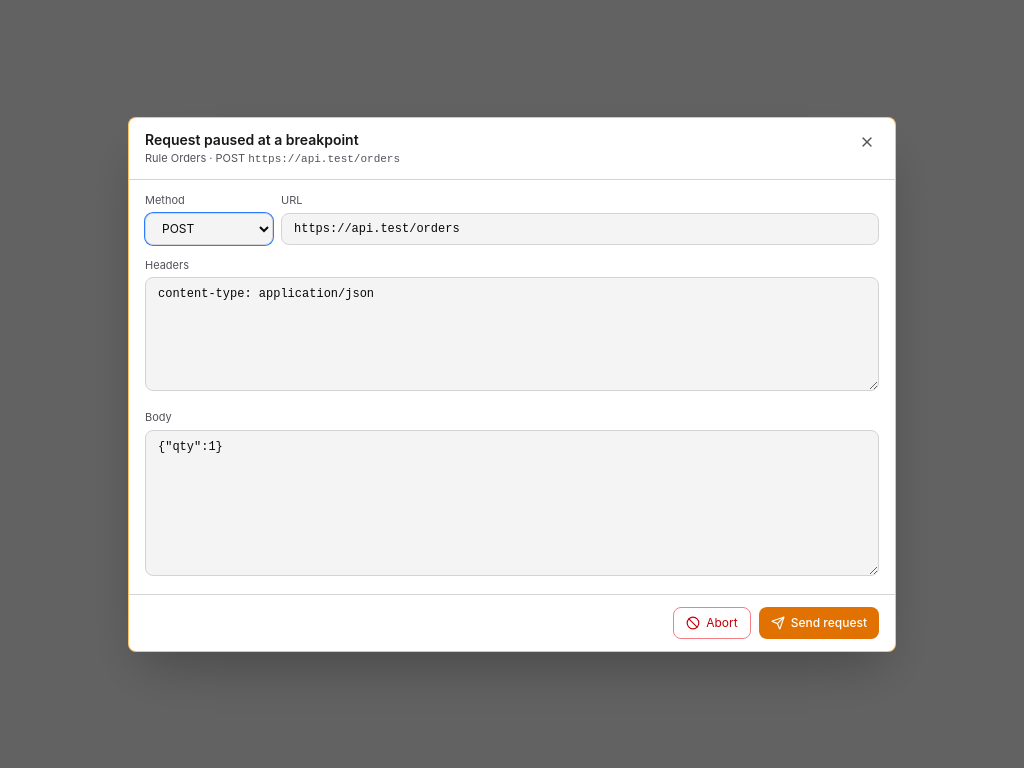
Scenario: BreakpointDialog › rejects malformed header lines and closes with Escape
Later steps or results of the test are not shown.
Replace the text in the text box labelled "Headers" with "nocolon" at coordinates (512, 334), box left=145, top=277, right=879, bottom=391
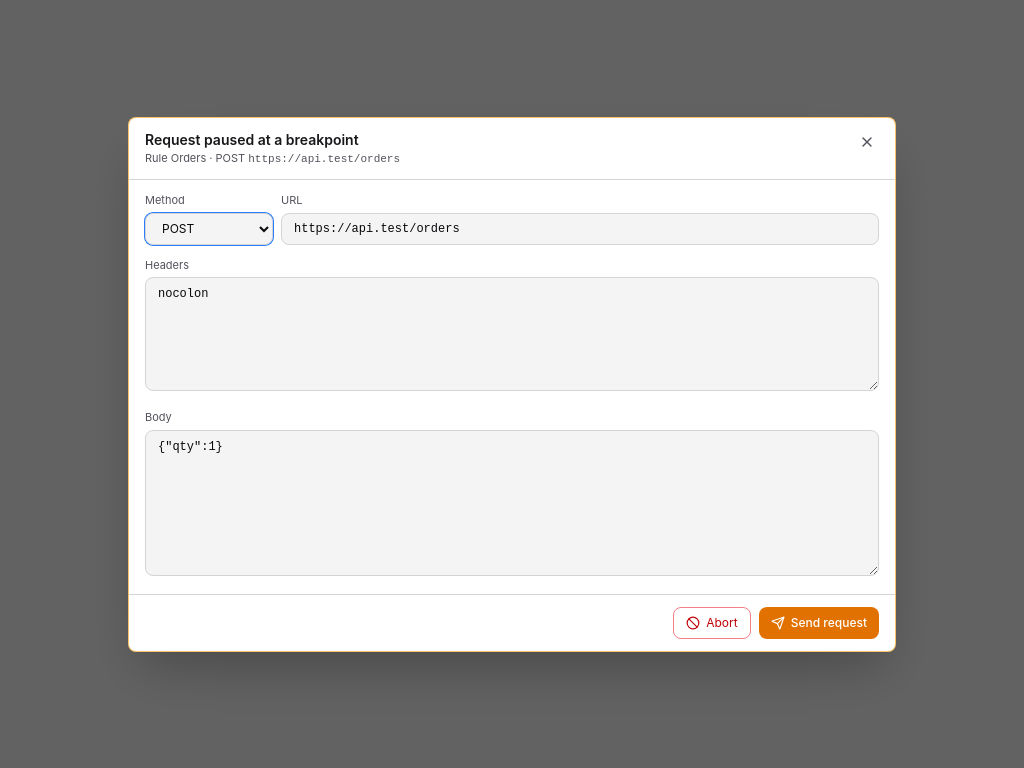
Click the button "Send request" at coordinates (819, 622), box left=759, top=606, right=879, bottom=638
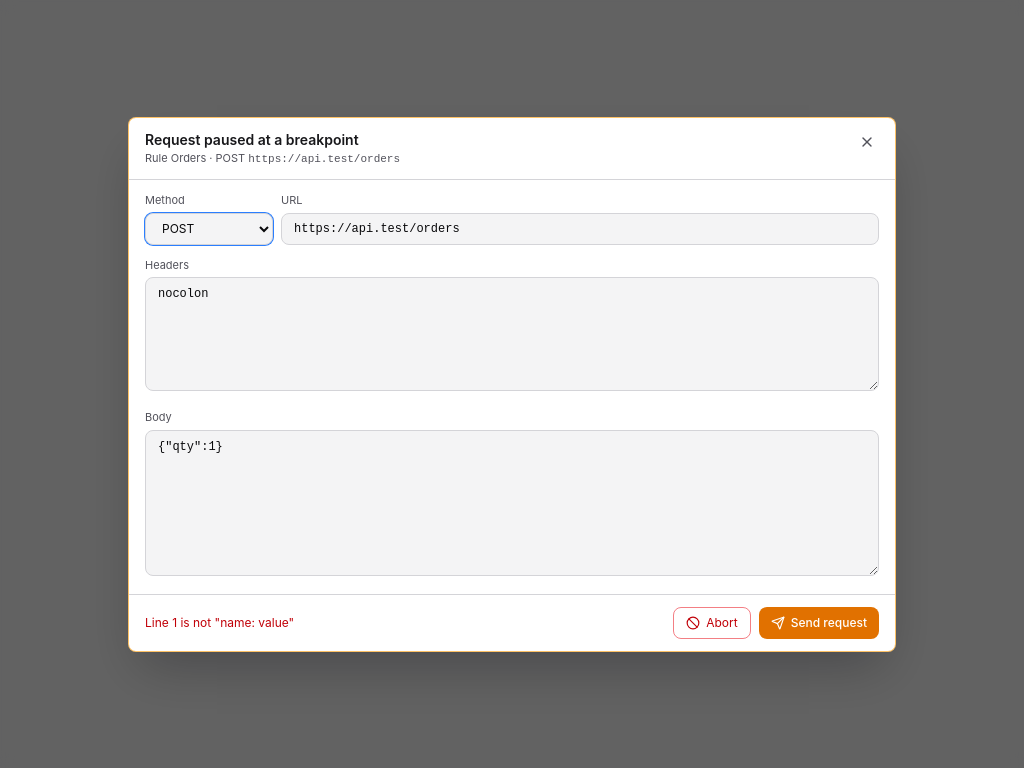
Now the text "Line 1 is not \"name: value\"" is shown, box left=145, top=614, right=294, bottom=630
